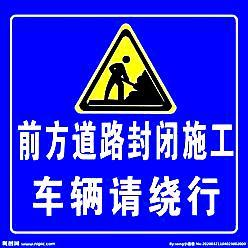sign: (4, 10, 242, 236)
